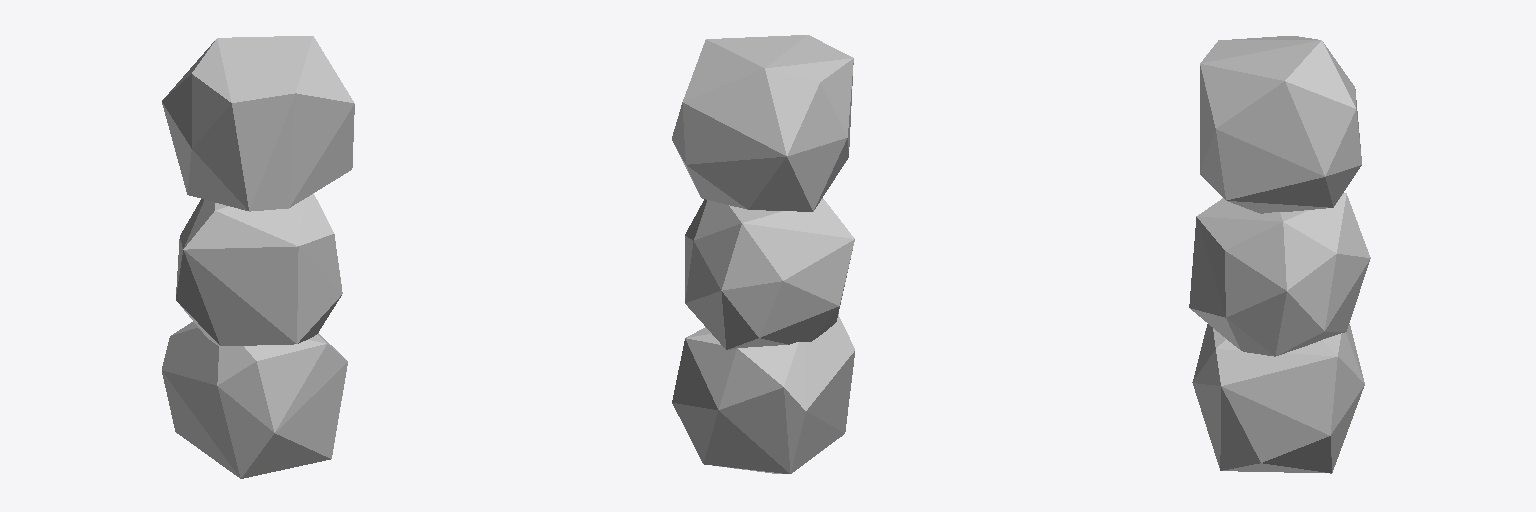
The model's file is AirPillar.obj.
3 views of the same model, side by side, from view 1: azimuth 30°, elevation 25°; view 2: azimuth 150°, elevation 25°; view 3: azimuth 270°, elevation 25° (orthographic).
Parts seen in each view (by area): view 1: Cube_Cube.001; view 2: Cube_Cube.001; view 3: Cube_Cube.001.
Boxes of the visible parts, box(x1,y1,x2,y2) form: Cube_Cube.001: box(162, 36, 354, 478); Cube_Cube.001: box(672, 35, 854, 473); Cube_Cube.001: box(1189, 36, 1370, 473).
Bounding box in the file's own units: 15.93 × 39.47 × 15.68.